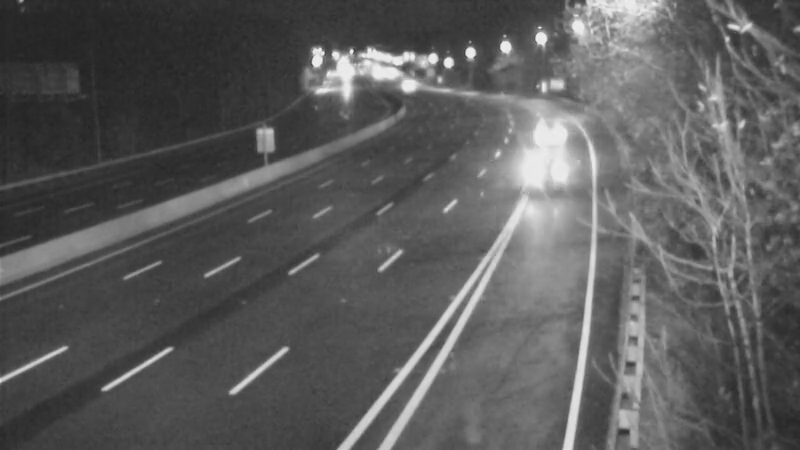vehicle: (494, 136, 574, 216), (382, 61, 432, 111), (520, 108, 570, 158)
